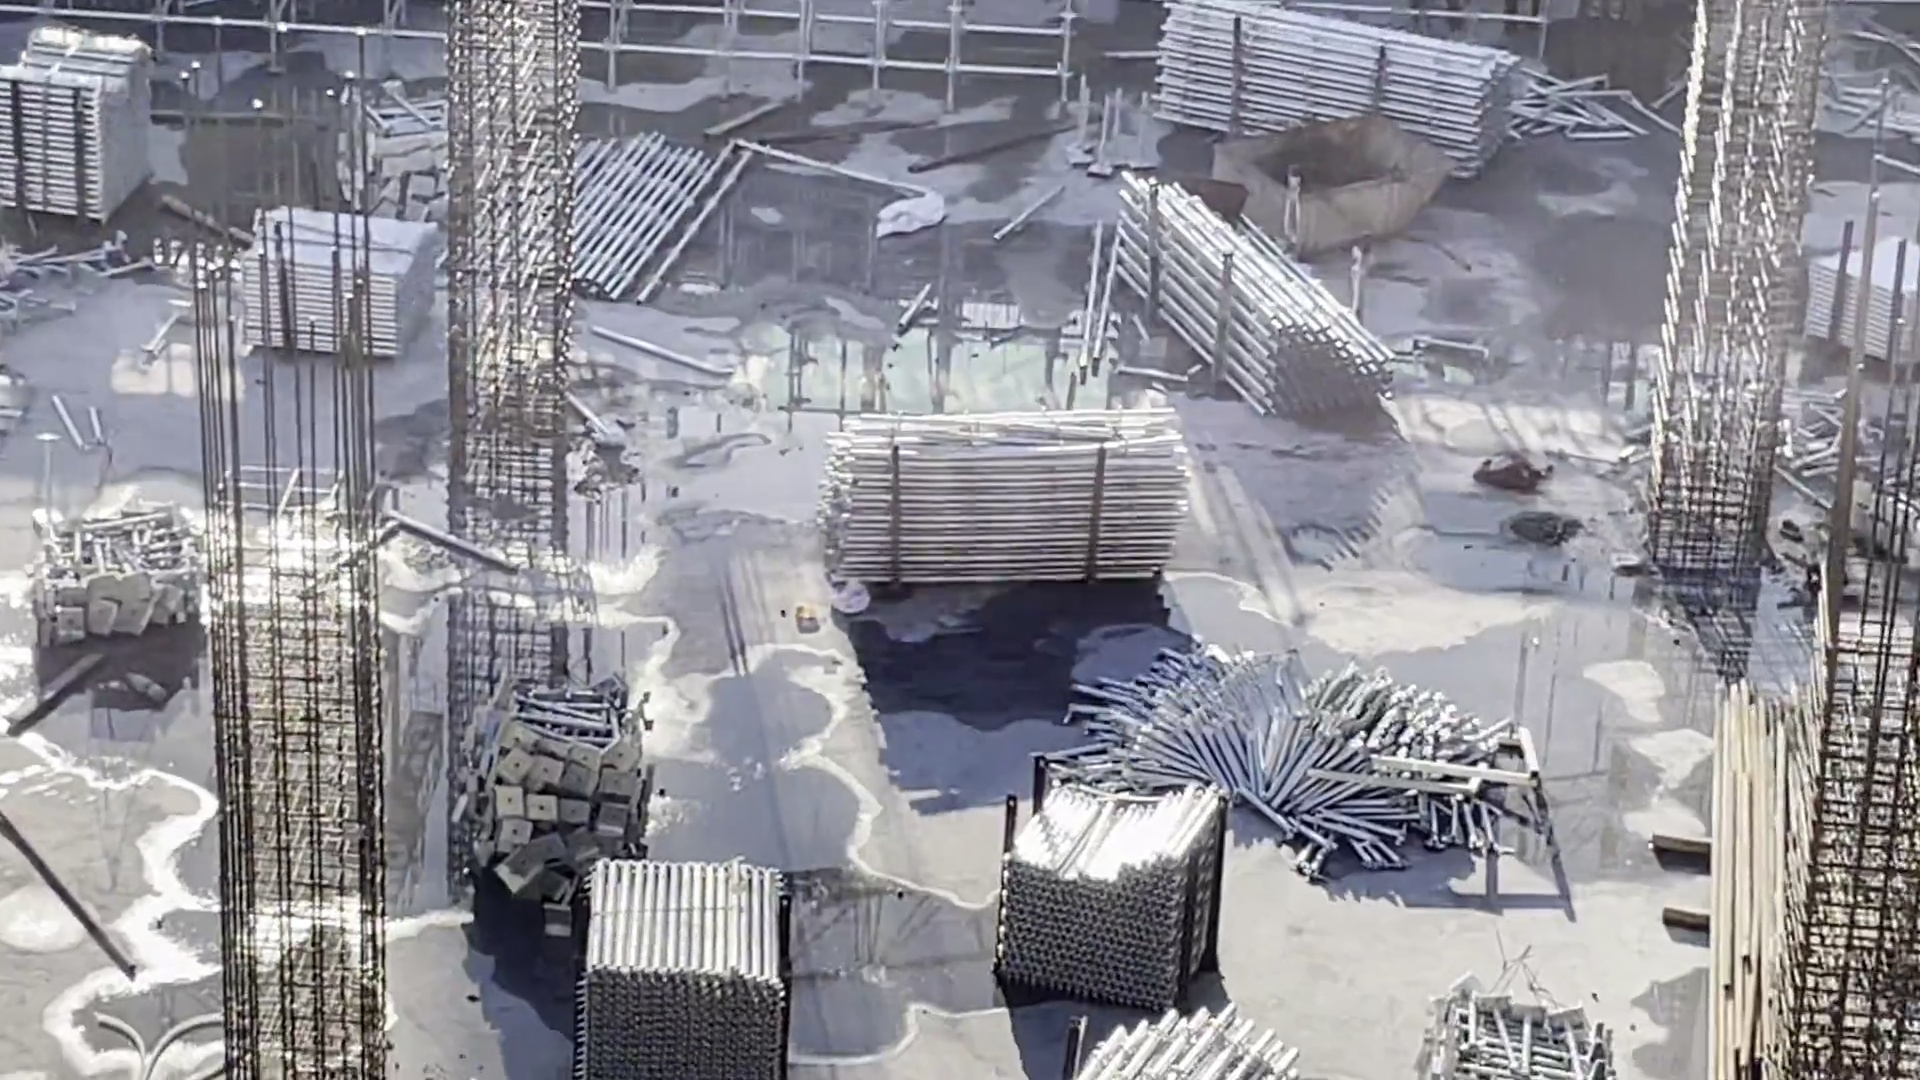hopper: (1208, 105, 1456, 264)
scaffold: (1095, 636, 1484, 881), (1100, 165, 1364, 440), (819, 404, 1178, 588), (1154, 9, 1511, 165), (996, 756, 1220, 998), (576, 857, 802, 1069), (444, 713, 661, 914), (549, 141, 752, 295), (9, 26, 173, 212), (29, 497, 229, 646), (258, 214, 447, 351), (347, 99, 510, 235), (1054, 993, 1291, 1080), (1422, 981, 1606, 1079), (1803, 227, 1920, 352)
